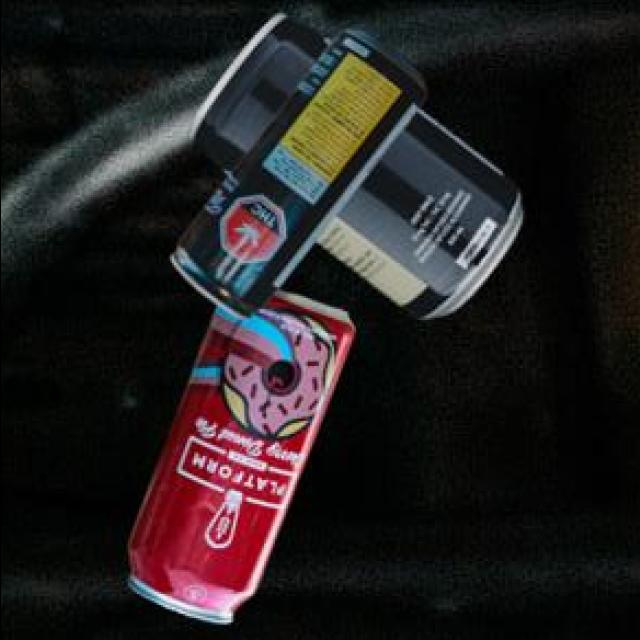logam: (185, 16, 518, 323), (124, 293, 350, 626), (168, 34, 422, 323)
